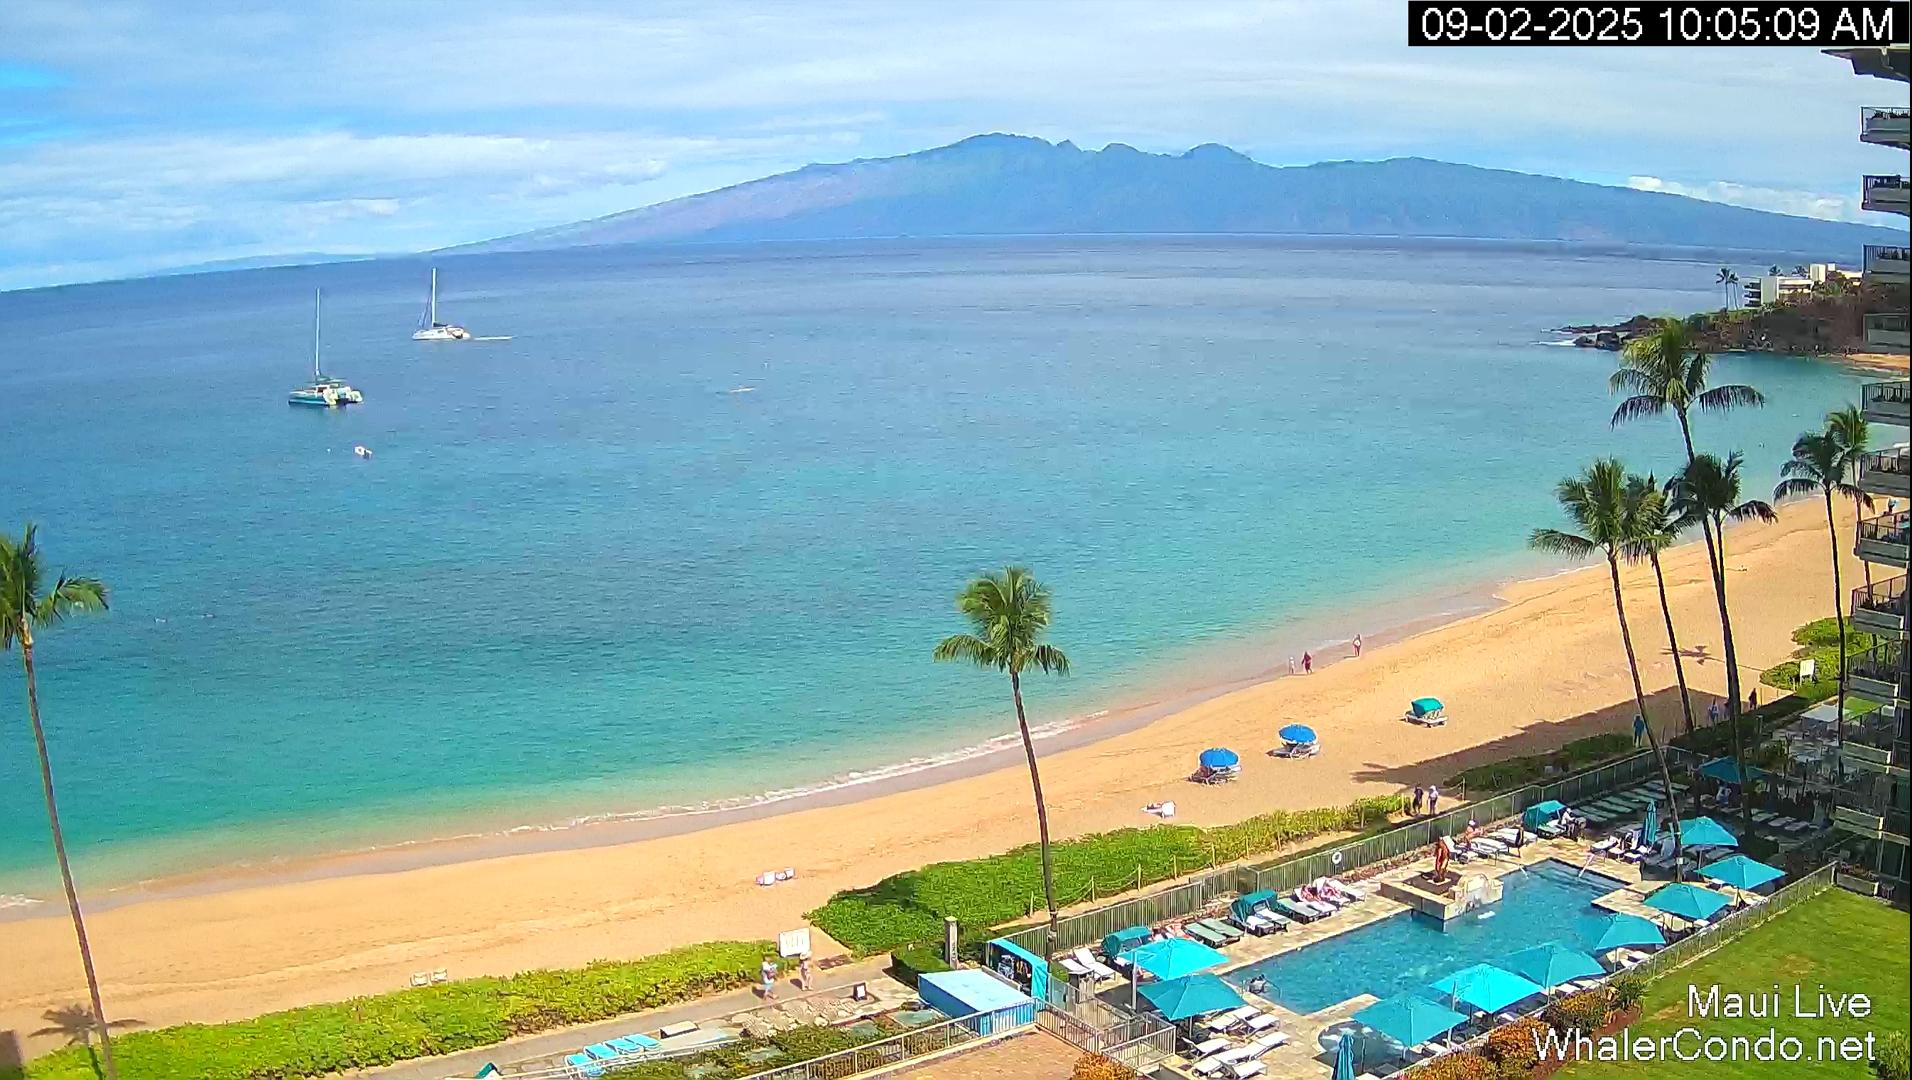boat: (288, 287, 364, 406), (412, 267, 472, 341), (353, 445, 374, 462)
person: (761, 956, 778, 1000), (800, 950, 814, 992), (1320, 879, 1345, 899), (1300, 884, 1323, 905), (1465, 820, 1480, 852), (1632, 715, 1645, 748), (1250, 972, 1269, 993), (1412, 782, 1424, 814), (1709, 697, 1720, 727), (1560, 807, 1573, 832), (1428, 785, 1439, 814), (1301, 651, 1314, 675), (1618, 831, 1632, 852), (1748, 688, 1757, 711), (1352, 634, 1361, 656), (1723, 697, 1731, 718), (1737, 562, 1748, 575), (1289, 656, 1296, 674)
surfboard: (728, 387, 758, 393)
